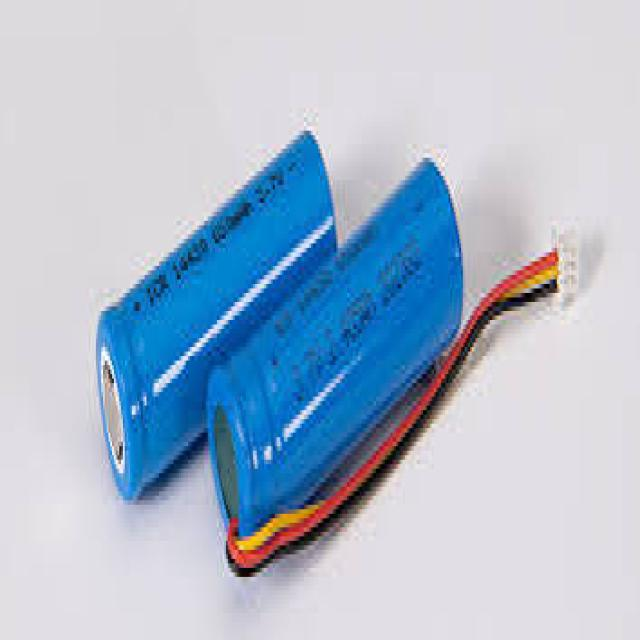Battery: (228, 179, 469, 537), (101, 132, 332, 493)
